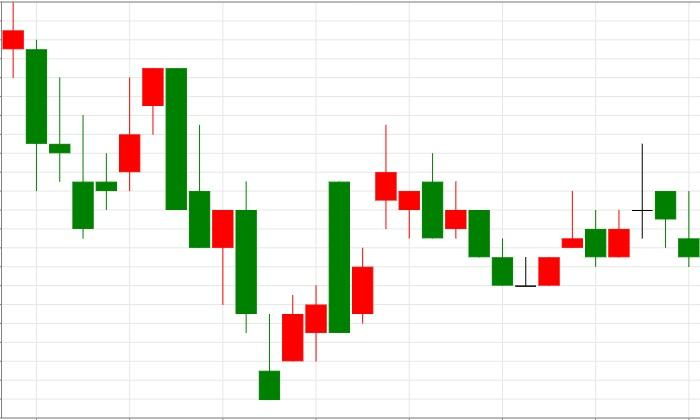bearish_engulfing_fall: (73, 67, 187, 238)
inverse_hammer_rise: (165, 67, 280, 399)
